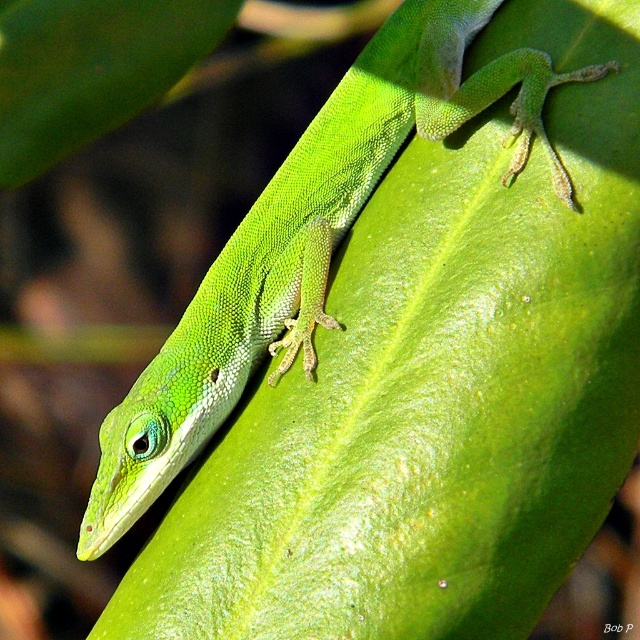Lizard: (76, 0, 618, 561)
